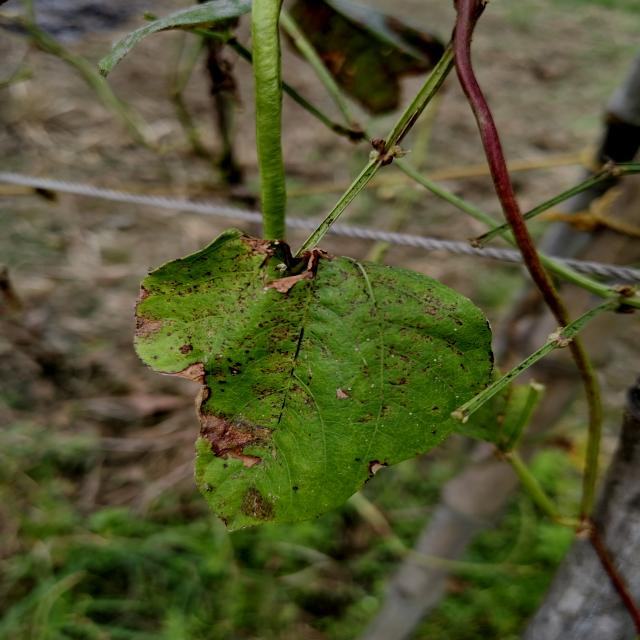leaf-moderate: (136, 230, 493, 529)
